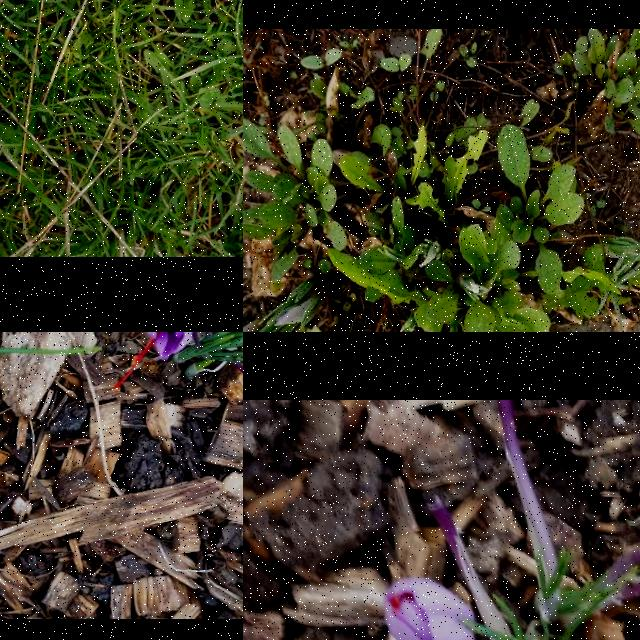flower: (384, 576, 476, 640), (112, 332, 193, 389)
